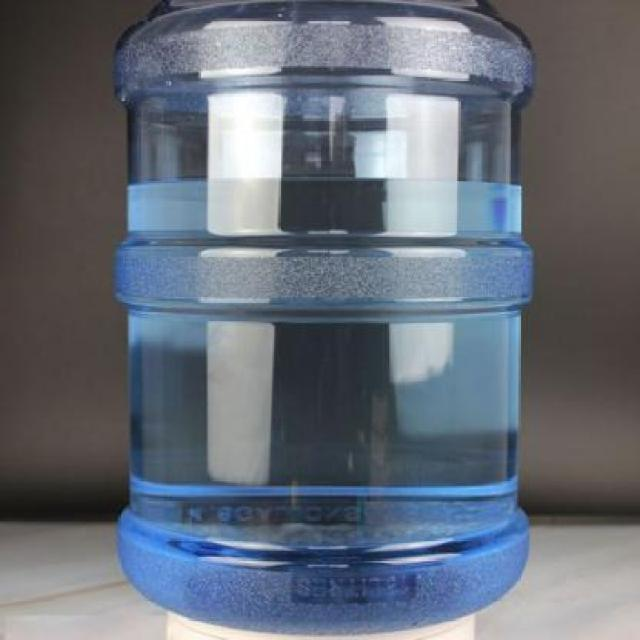coolerbottle: (108, 0, 544, 640)
